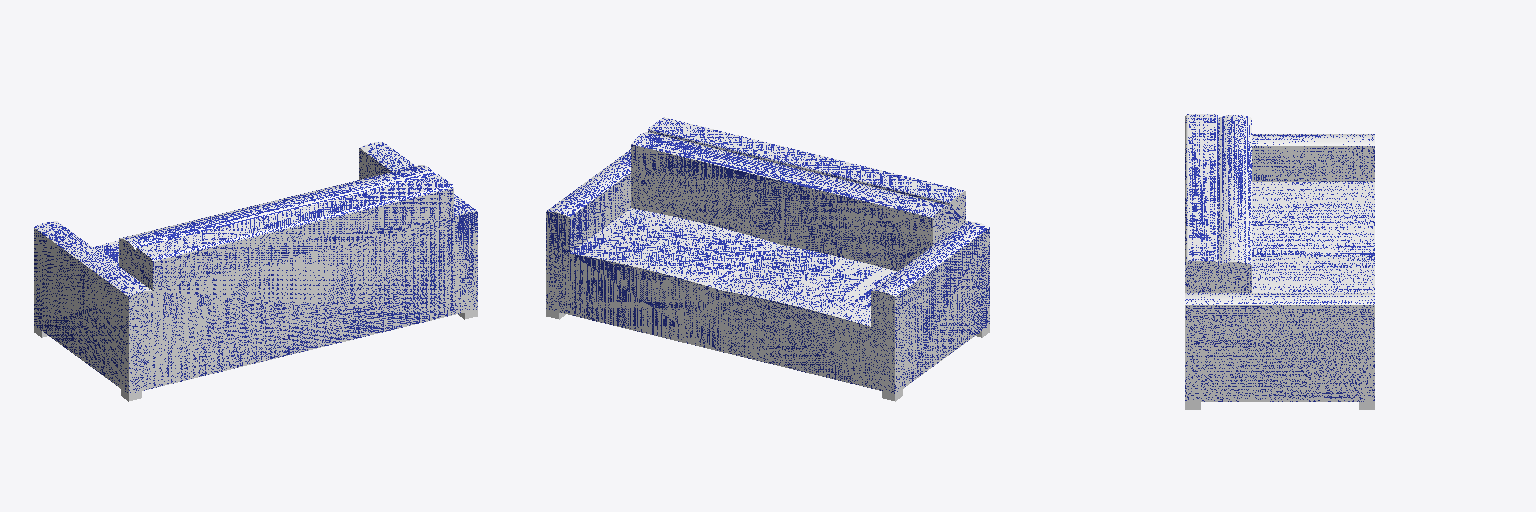
3 renders of one model, left to right at view 1: azimuth 30°, elevation 25°; view 2: azimuth 150°, elevation 25°; view 3: azimuth 270°, elevation 25°, orthographic.
Parts seen in each view (by area): view 1: mesh1_mesh1-geometry; view 2: mesh1_mesh1-geometry; view 3: mesh1_mesh1-geometry.
Boxes of the visible parts, <box> form: mesh1_mesh1-geometry: <box>34,142,477,401</box>; mesh1_mesh1-geometry: <box>546,117,989,401</box>; mesh1_mesh1-geometry: <box>1185,114,1374,409</box>.
Bounding box in the file's own units: 0.8574 × 0.3194 × 0.4035.
Materials: 5 (2 with a texture image).